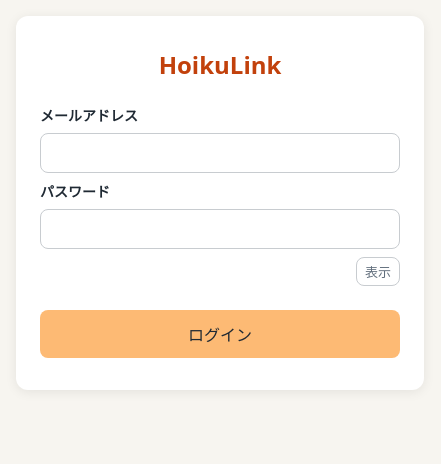
it: ログイン画面 › ログインに失敗するとAPIのtitleとdetailを表示する。
Type "hanako@example.com" into the field labelled "メールアドレス" at [220, 153], box [40,133,400,173]
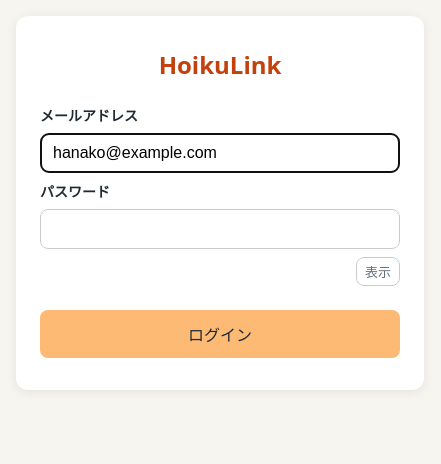
Type "wrong" into the password field labelled "パスワード" at [220, 229], box [40,209,400,249]
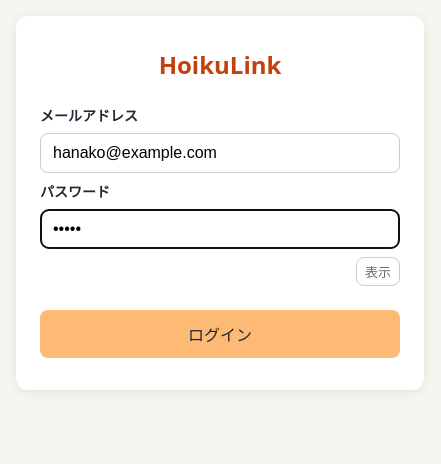
Click the button "ログイン" at [220, 334], box [40,310,400,358]
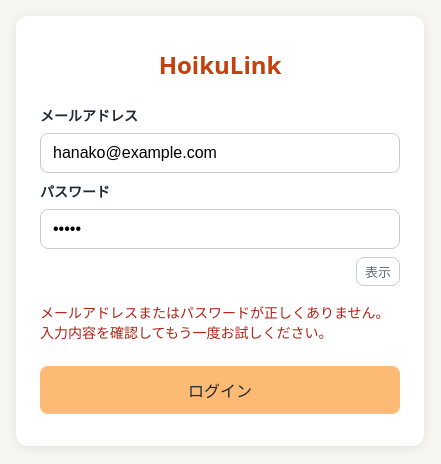
Result: the message reads "メールアドレスまたはパスワードが正しくありません。入力内容を確認してもう一度お試しください。" at [40,303,390,342]
